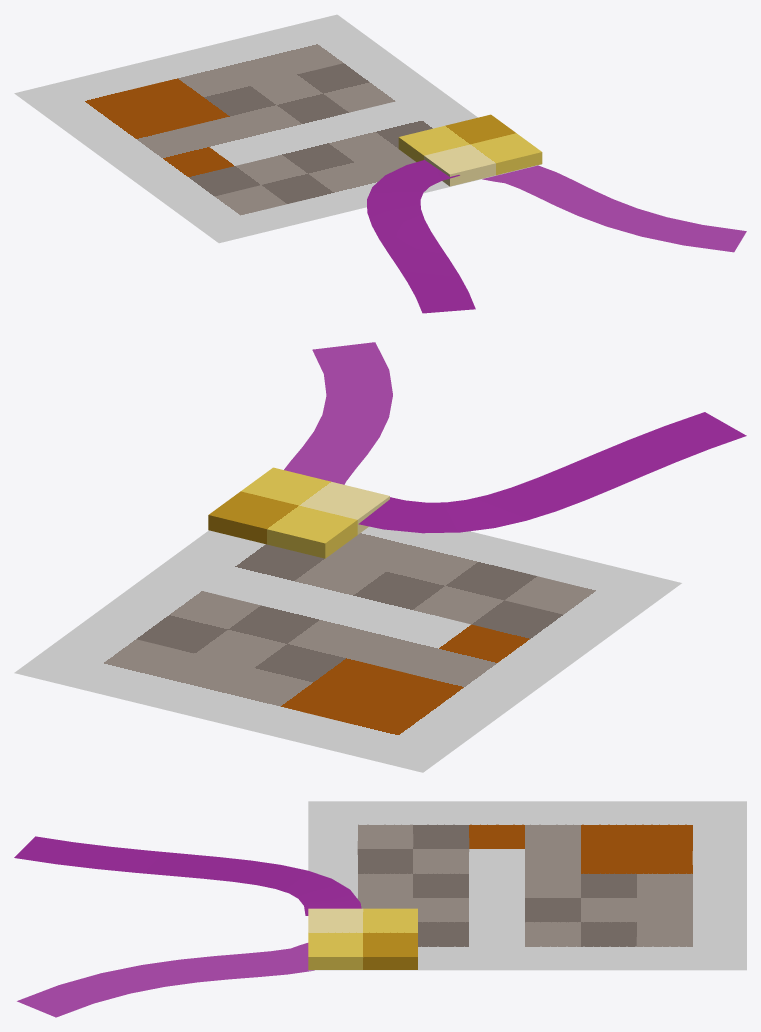
The model's file is scroll_797x03.obj.
The picture shows the model from 3 angles, top to bottom: view 1: azimuth 30°, elevation 25°; view 2: azimuth 150°, elevation 25°; view 3: azimuth 270°, elevation 25°; orthographic projection. The views are drawn at different scales.
Visible parts, largest first — view 1: Paper; view 2: Paper; view 3: Paper.
Part boxes in pixels (x1,y1,x2,y2): Paper: (14,14,746,313); Paper: (14,342,746,772); Paper: (14,801,746,1017).
Size of the model in its own units: 1.16 by 0.0672 by 1.67.
